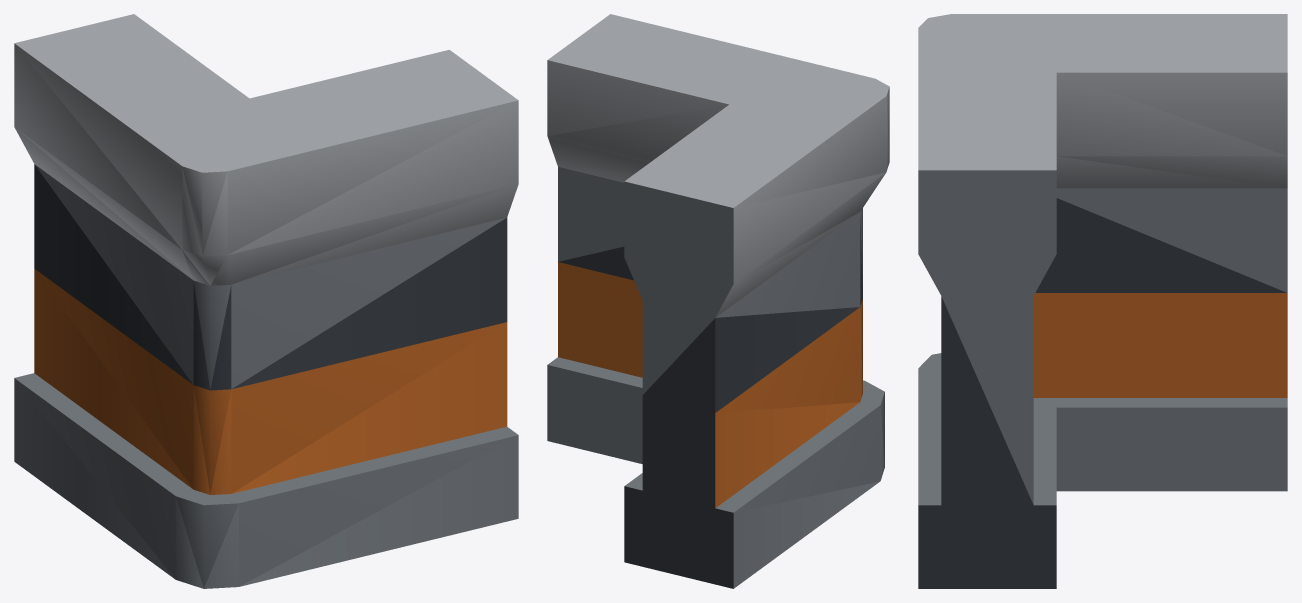
The model's file is Kit_wall-corner-banner.fbx.
3 views of the same model, side by side, from view 1: azimuth 30°, elevation 25°; view 2: azimuth 150°, elevation 25°; view 3: azimuth 270°, elevation 25° (orthographic). The views are drawn at different scales.
Parts seen in each view (by area): view 1: Kit_wall-corner-banner; view 2: Kit_wall-corner-banner; view 3: Kit_wall-corner-banner.
Part boxes in pixels (<box>): Kit_wall-corner-banner: <box>14,14,518,588</box>; Kit_wall-corner-banner: <box>547,14,889,588</box>; Kit_wall-corner-banner: <box>918,14,1287,588</box>.
Bounding box in the file's own units: 0.8 × 1 × 0.8.
